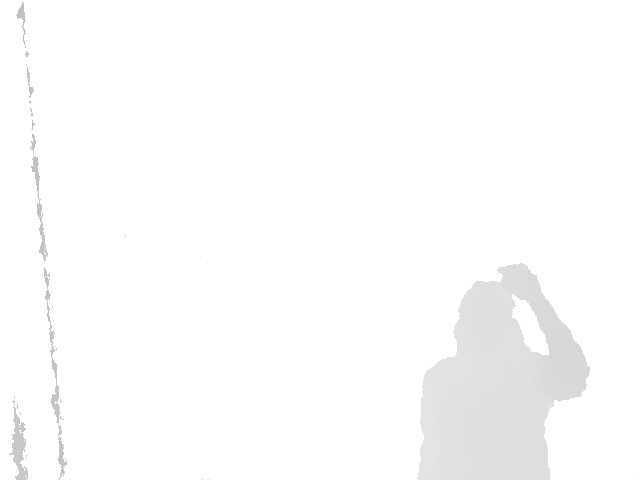hand: (497, 262, 542, 304)
head: (453, 281, 524, 354)
person: (416, 262, 591, 480)
